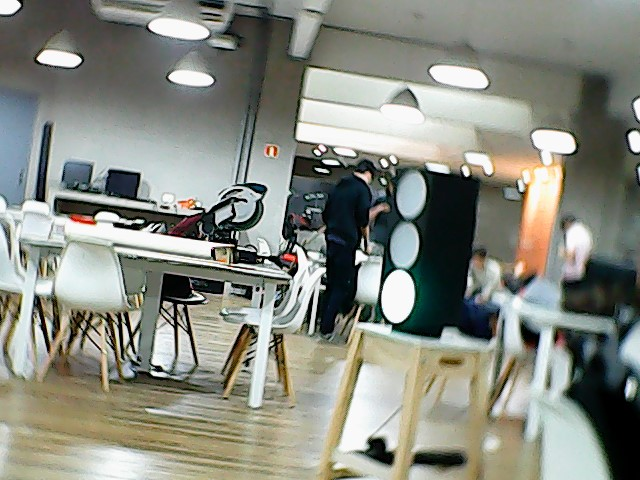verde: (387, 170, 482, 347)
